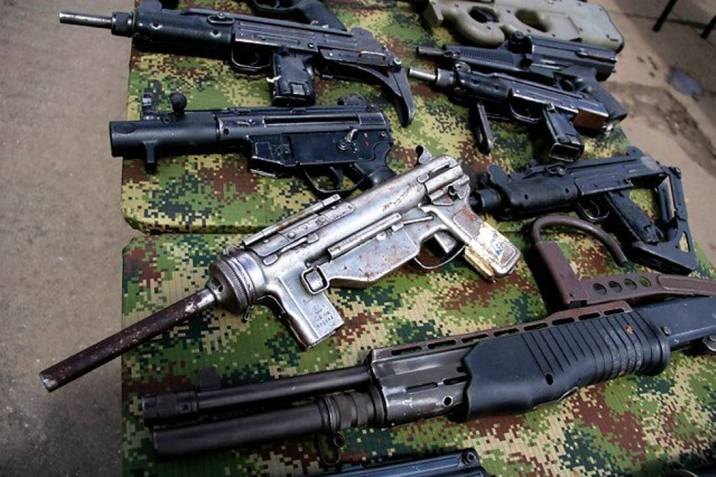Arma Real: (122, 260, 716, 477), (38, 146, 536, 393), (53, 3, 414, 124), (94, 68, 415, 204), (475, 153, 712, 276), (406, 58, 607, 161)
